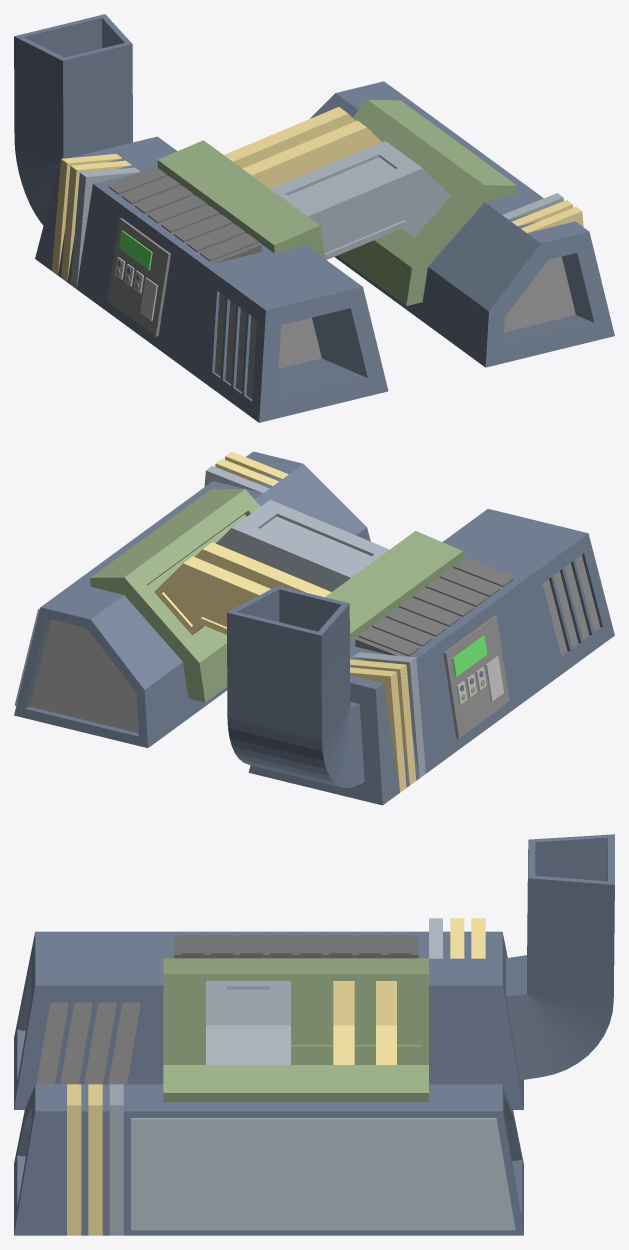
The model's file is Generator.glb.
The picture shows the model from 3 angles, top to bottom: view 1: azimuth 30°, elevation 25°; view 2: azimuth 150°, elevation 25°; view 3: azimuth 270°, elevation 25°; orthographic projection. The views are drawn at different scales.
Parts seen in each view (by area): view 1: Generator; view 2: Generator; view 3: Generator.
Boxes of the visible parts, bbox=[...] form: Generator: bbox=[14, 14, 614, 422]; Generator: bbox=[14, 451, 614, 805]; Generator: bbox=[14, 834, 614, 1235].
Bounding box in the file's own units: 6.45 × 3.24 × 8.2.
